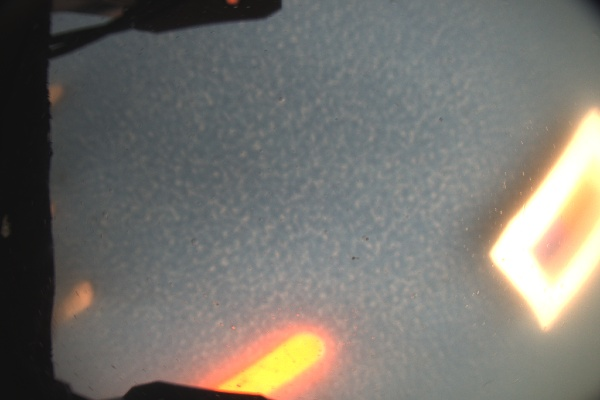bin: (268, 0, 494, 128)
bin_bleue: (335, 31, 412, 77)
bin_rouge: (312, 0, 390, 36)
path: (327, 328, 391, 400)
